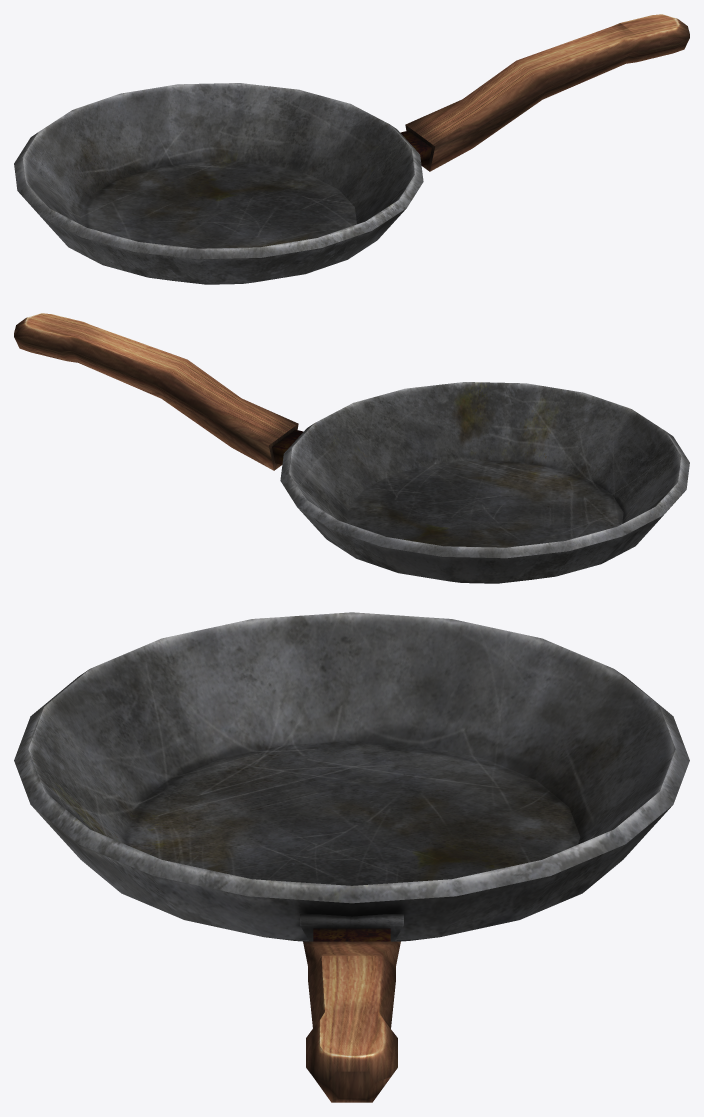
The model's file is FryingPan.fbx.
The picture shows the model from 3 angles, top to bottom: view 1: azimuth 30°, elevation 25°; view 2: azimuth 150°, elevation 25°; view 3: azimuth 270°, elevation 25°; orthographic projection. The views are drawn at different scales.
Parts seen in each view (by area): view 1: Default_Layer; view 2: Default_Layer; view 3: Default_Layer.
Part boxes in pixels (bbox=[...]): Default_Layer: bbox=[14, 14, 689, 284]; Default_Layer: bbox=[14, 313, 689, 583]; Default_Layer: bbox=[14, 612, 689, 1102].
Size of the model in its own units: 111 by 18.37 by 61.65.
